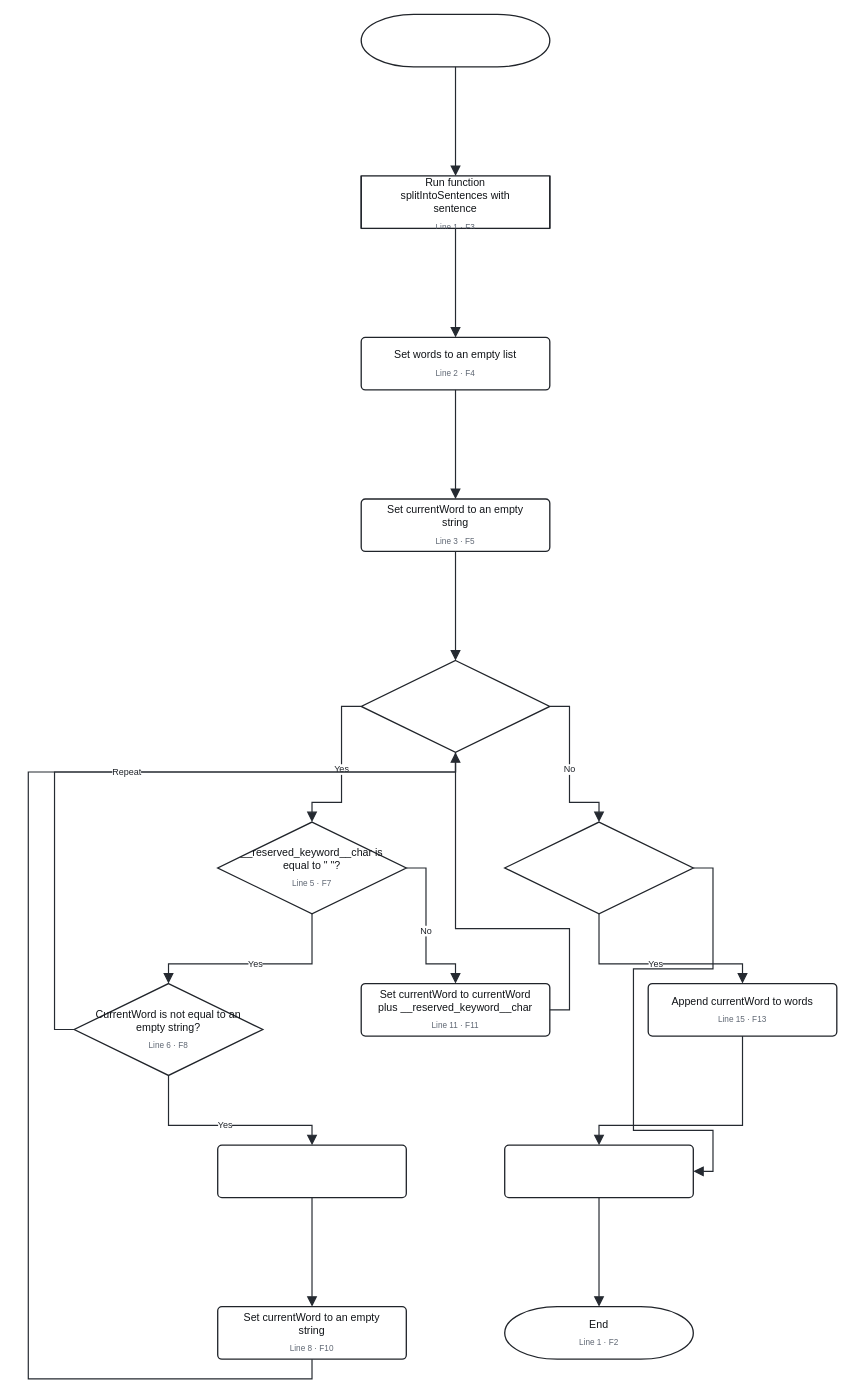
Some shapes in this 852 by 1395 pixel diagram are drawn without their labels. The shapes that lost their labels are listed below. From the top down, each one's box as (x1, y1, x2, y2) in pixels, then its label:
(360, 13, 550, 67): Start Line 1 · F1
(360, 659, 550, 753): For each __reserved_keyword__char in sentence Line 4 · F6
(504, 821, 694, 914): CurrentWord is not equal to an empty string? Line 14 · F12
(217, 1144, 407, 1198): Append currentWord to words Line 7 · F9
(504, 1144, 694, 1198): Return words Line 17 · F14
